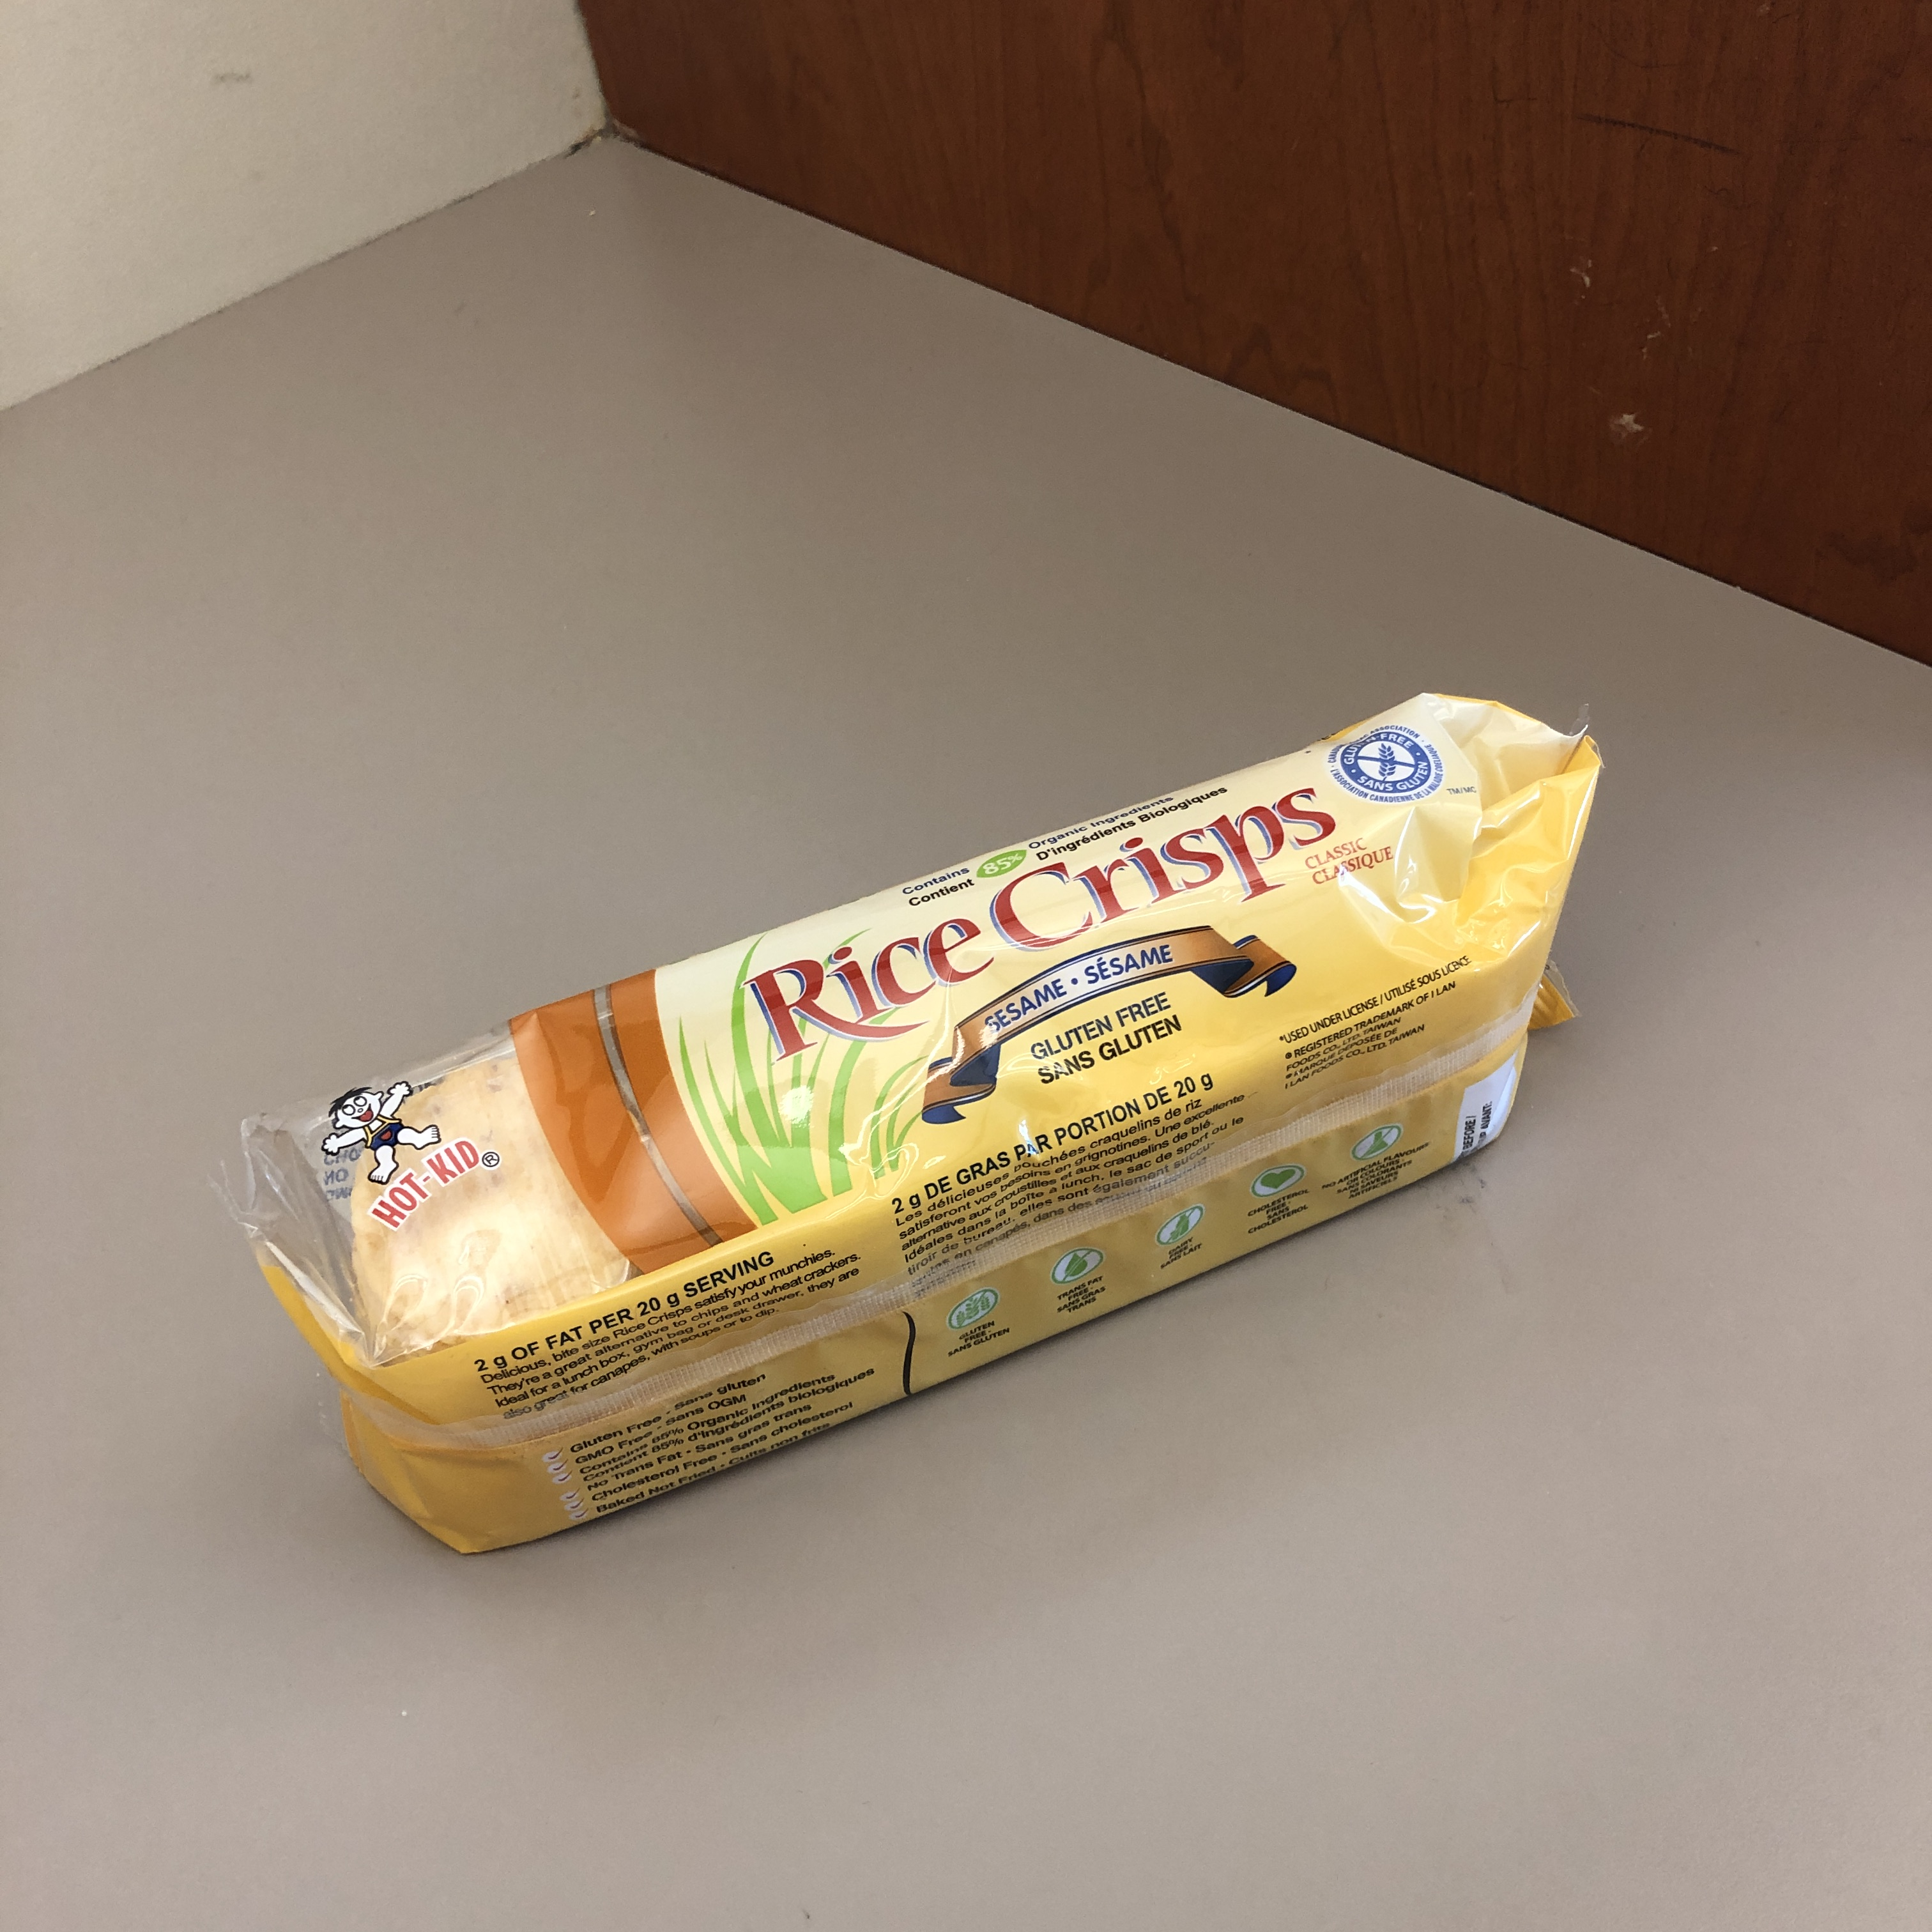hot_kid_rice_crisps_sesame: (705, 350, 1532, 1558)
